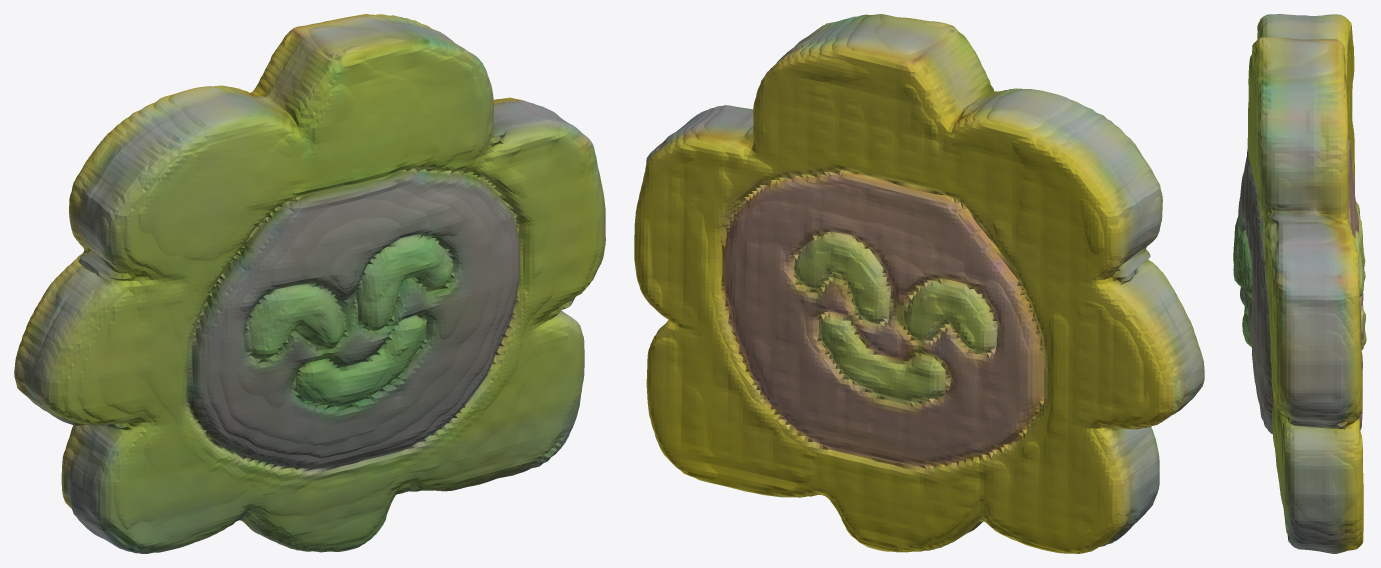
3 views of the same model, side by side, from view 1: azimuth 30°, elevation 25°; view 2: azimuth 150°, elevation 25°; view 3: azimuth 270°, elevation 25° (orthographic). The views are drawn at different scales.
Parts seen in each view (by area): view 1: world; view 2: world; view 3: world.
Part boxes in pixels (bbox=[...]): world: bbox=[14, 14, 605, 553]; world: bbox=[634, 14, 1204, 553]; world: bbox=[1233, 14, 1366, 553].
Size of the model in its own units: 1 by 0.8774 by 0.2343.
